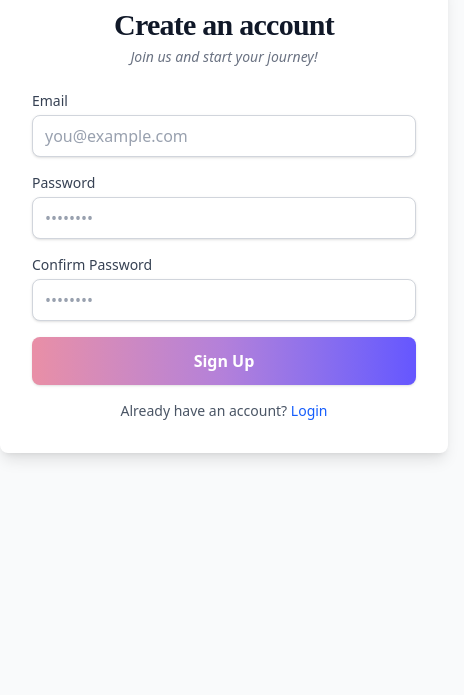
it: SignupForm › blocks weak password
Type "test@x.com" into the field labelled "Email" at [224, 136], box x1=32 y1=115 x2=416 y2=157
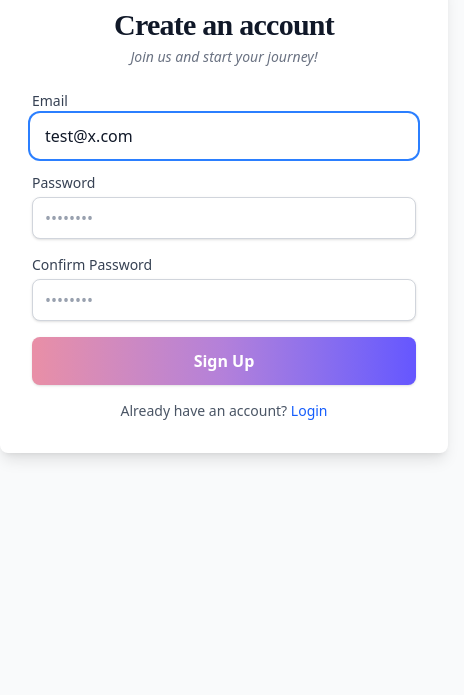
Type "short" into the password field labelled "Password" at [224, 218], box x1=32 y1=197 x2=416 y2=239
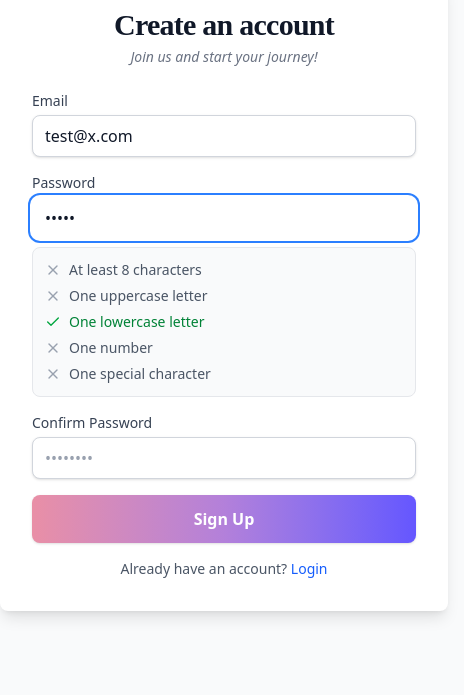
Type "short" into the password field labelled "Confirm Password" at [224, 458], box x1=32 y1=437 x2=416 y2=479
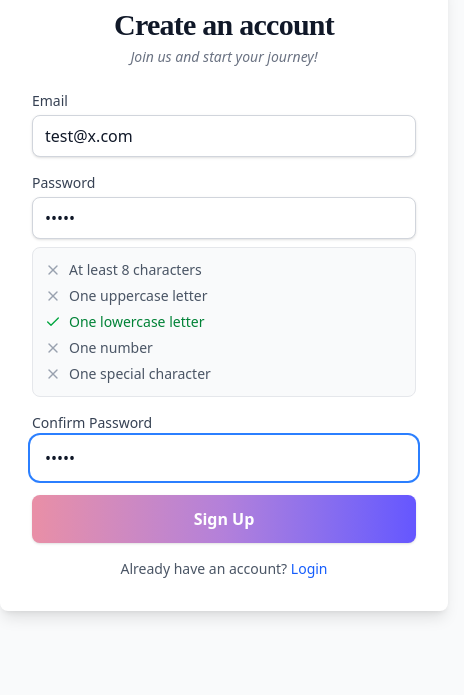
Click the button "Sign Up" at [224, 519], box x1=32 y1=495 x2=416 y2=543
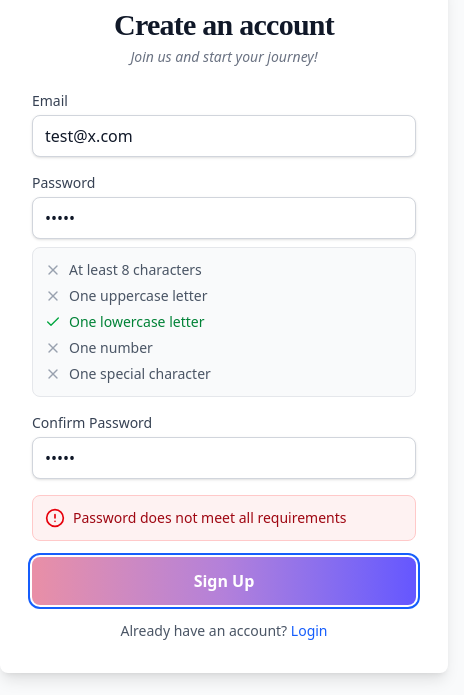
Result: the text "Password does not meet all requirements" is shown at x1=73 y1=508 x2=346 y2=528
